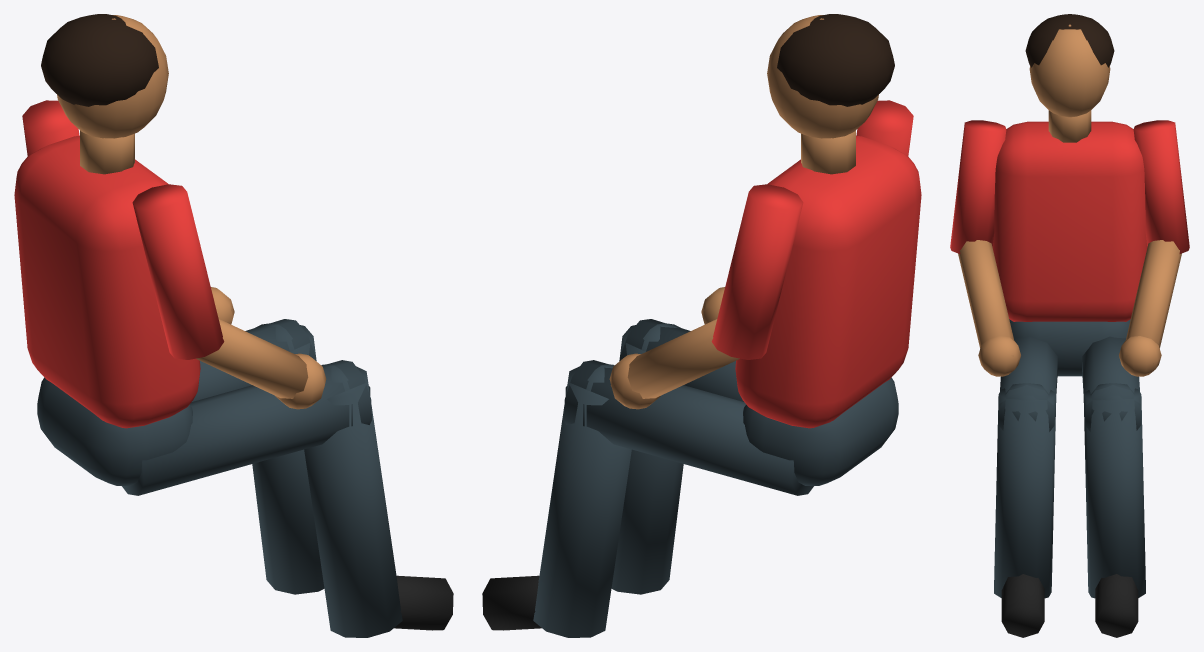
File: SpectatorA.glb
3 views of the same model, side by side, from view 1: azimuth 30°, elevation 25°; view 2: azimuth 150°, elevation 25°; view 3: azimuth 270°, elevation 25° (orthographic). The views are drawn at different scales.
Parts seen in each view (by area): view 1: SpectatorA; view 2: SpectatorA; view 3: SpectatorA.
Boxes of the visible parts, box(x1,y1,x2,y2) form: SpectatorA: box(14, 14, 453, 637); SpectatorA: box(482, 14, 921, 637); SpectatorA: box(950, 14, 1189, 637).
Size of the model in its own units: 0.8318 by 1.43 by 0.6142.
